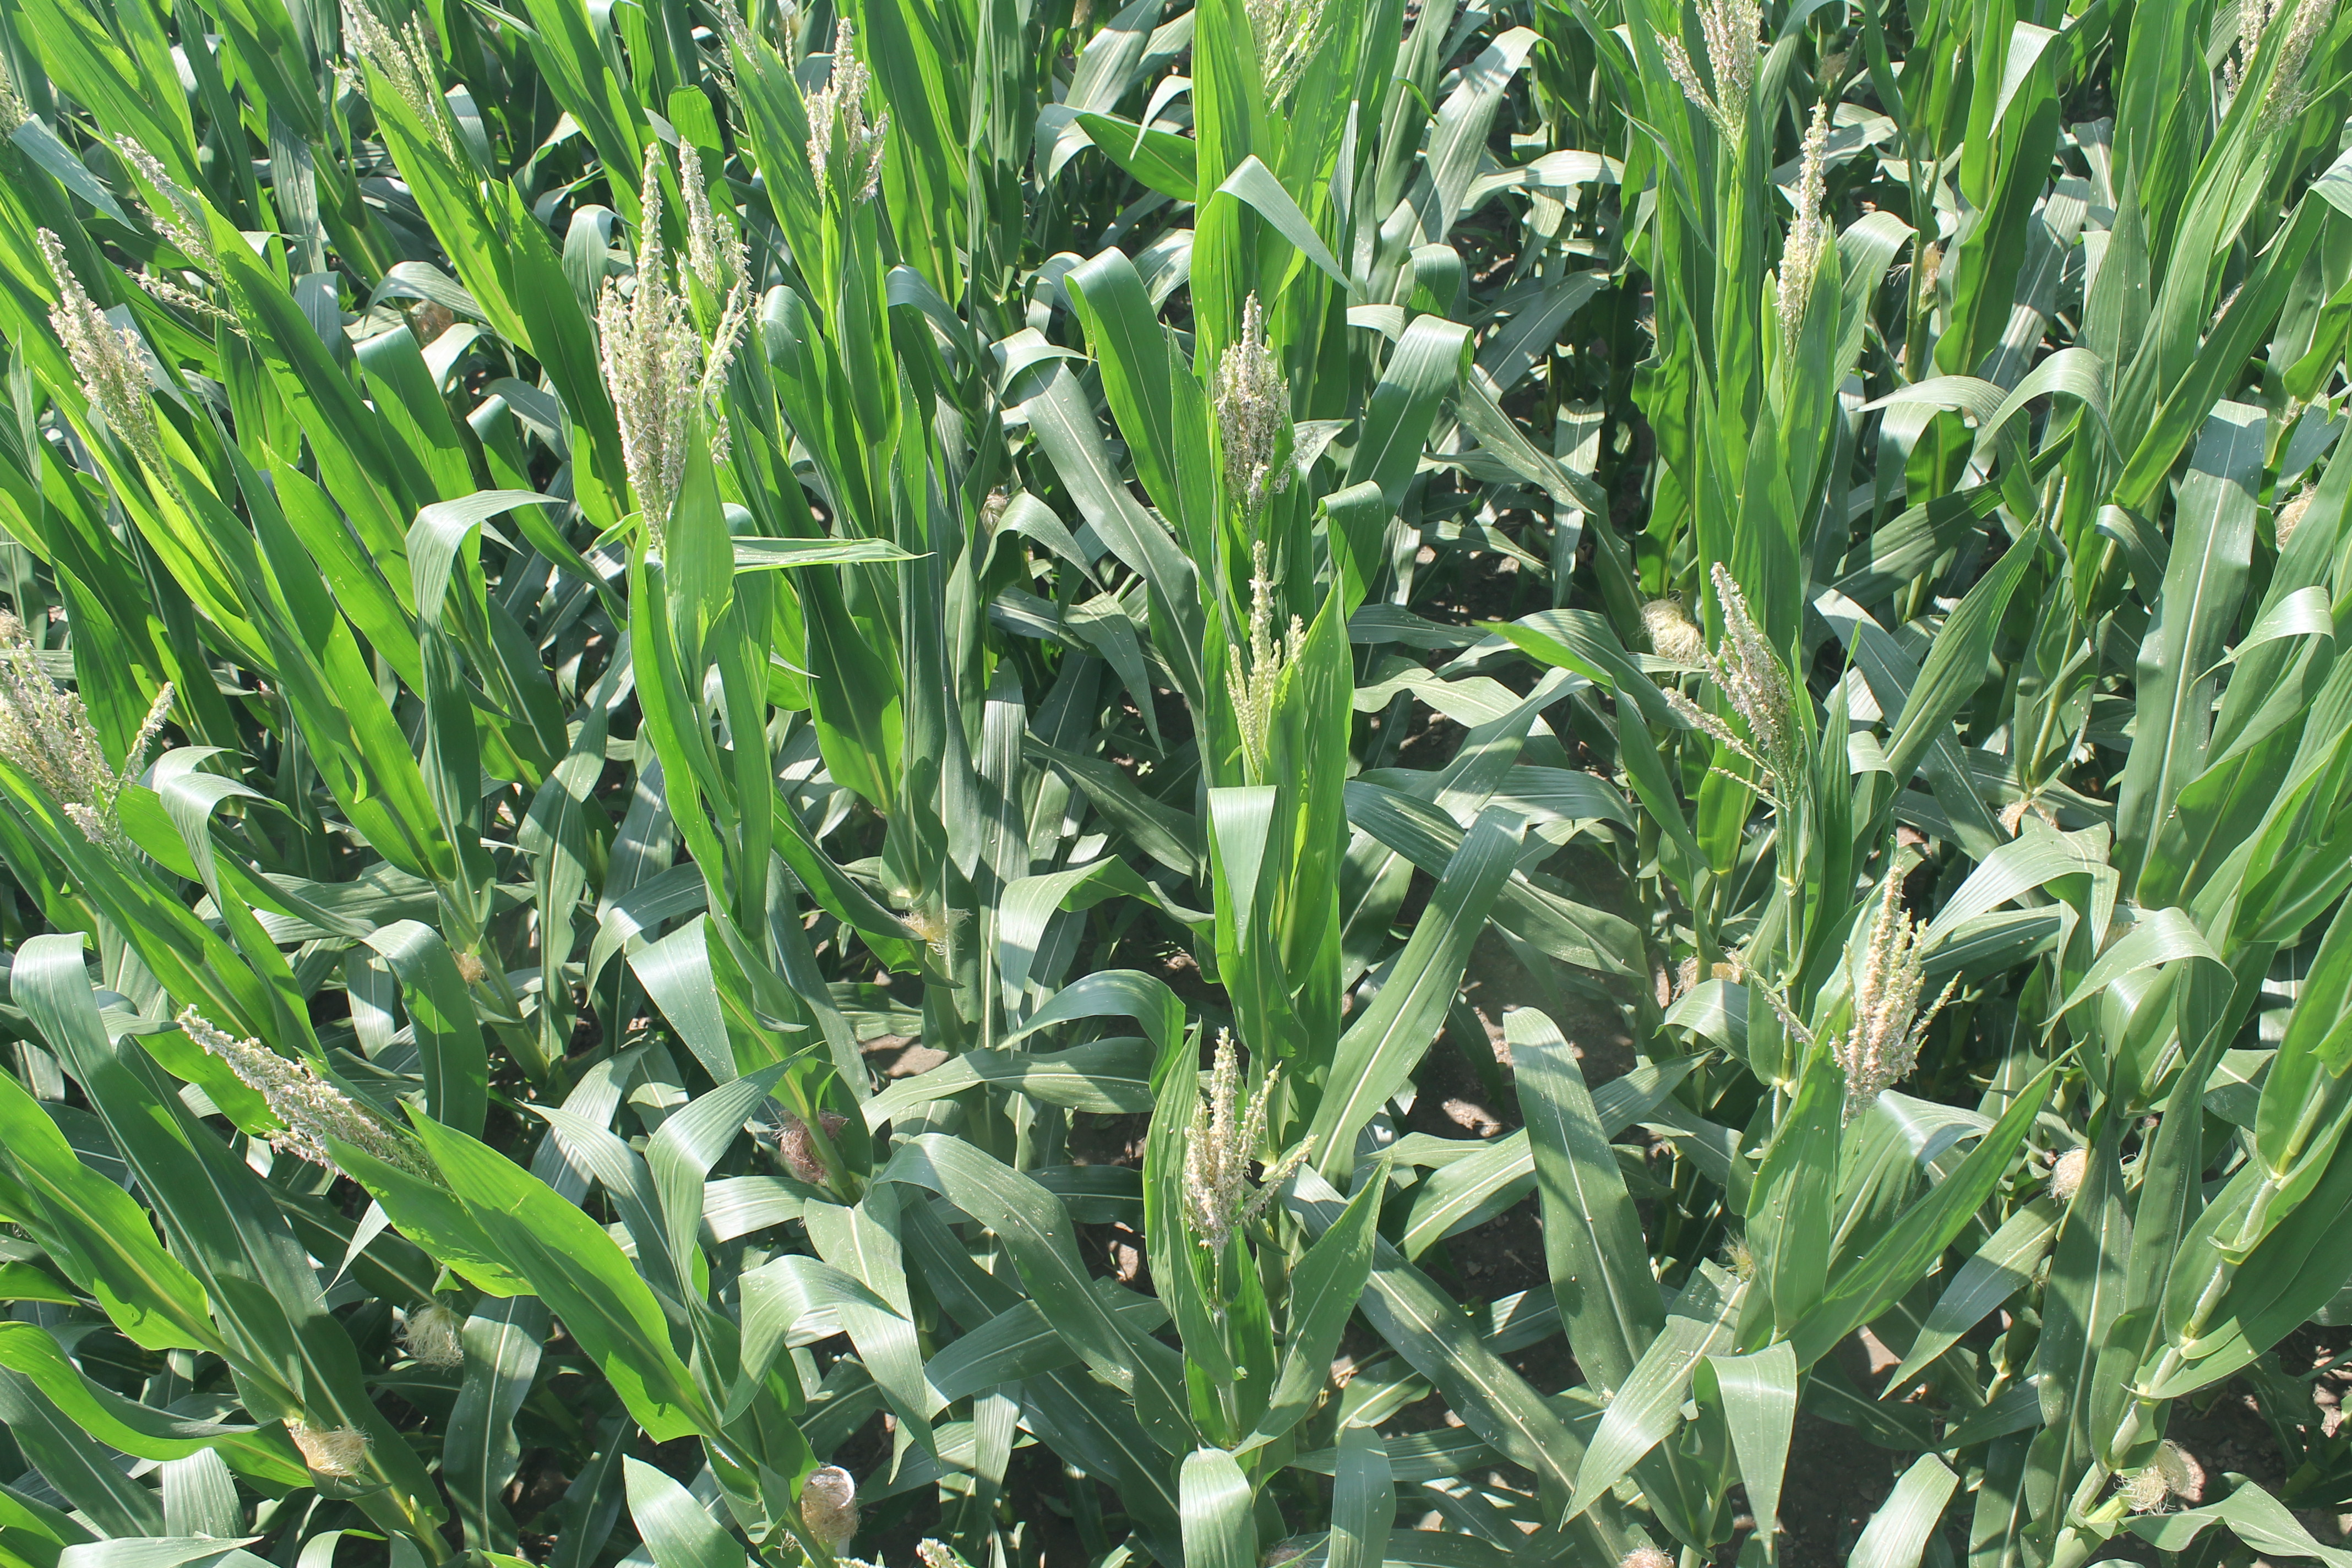Maize: (1739, 899, 2002, 1125), (584, 149, 723, 537), (0, 605, 206, 856), (1648, 565, 1832, 831), (171, 999, 401, 1200), (1164, 1015, 1307, 1244), (1188, 542, 1323, 759), (147, 128, 266, 343), (341, 0, 476, 189), (1188, 290, 1311, 497), (31, 215, 135, 455), (794, 30, 910, 220), (2205, 0, 2348, 133), (1776, 105, 1855, 346), (1211, 0, 1347, 117), (1652, 0, 1764, 117)
